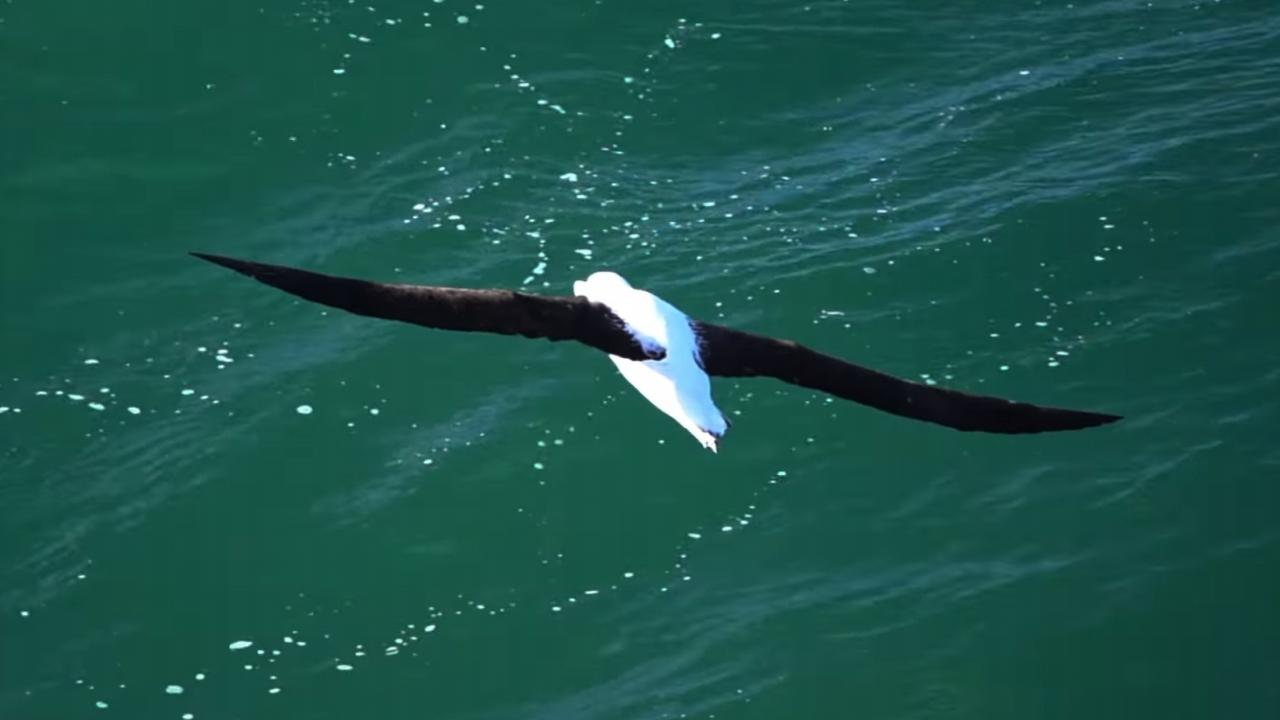Bird: (174, 236, 1139, 486)
